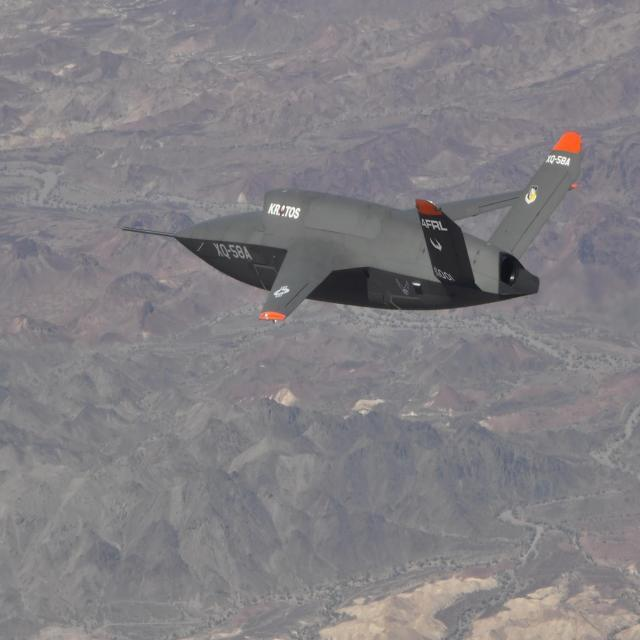iha: (109, 130, 589, 336)
